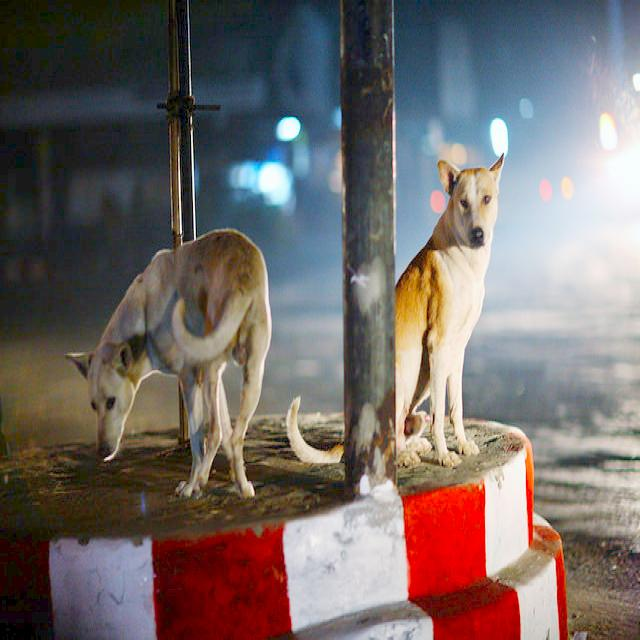Dog: (70, 281, 294, 519), (405, 128, 511, 484)
